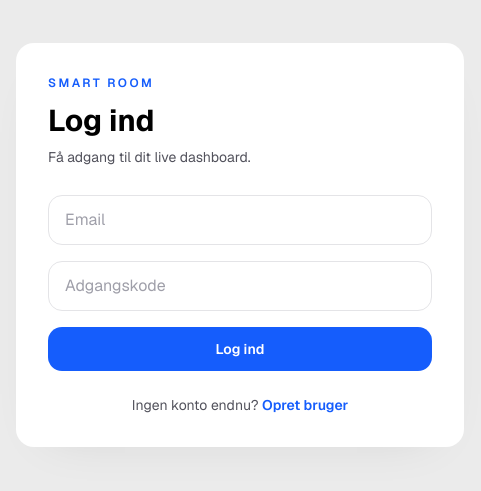
Test: LoginPage – formvalidering › viser fejlbesked, når signIn fejler
Note: Agér: udfyld formularen og klik submit
In the field with placeholder "Email": (240, 220) [48,195,432,245], type "test@example.com"
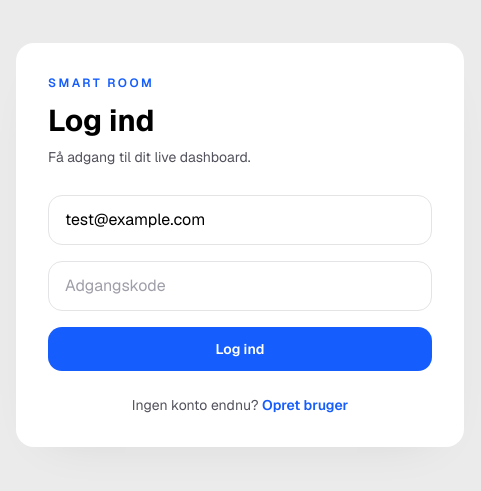
In the password field with placeholder "Adgangskode": (240, 286) [48,261,432,311], type "forkert"
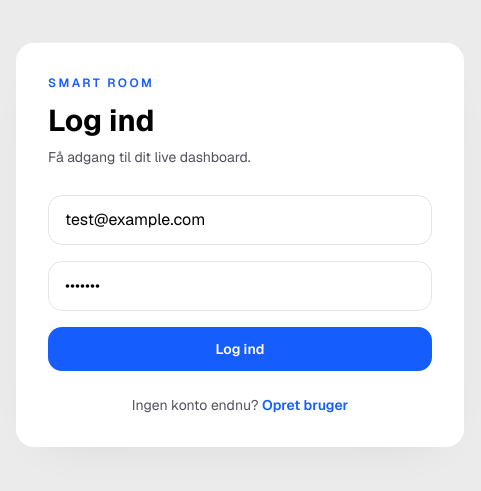
Click the button "Log ind": (240, 349) [48,327,432,371]
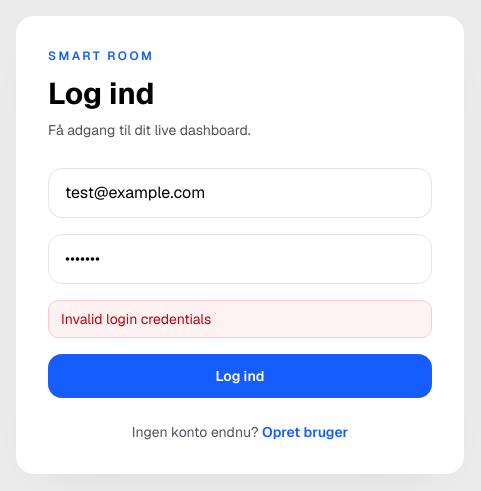
Result: the text "Invalid login credentials" is shown at [48,300,432,338]
